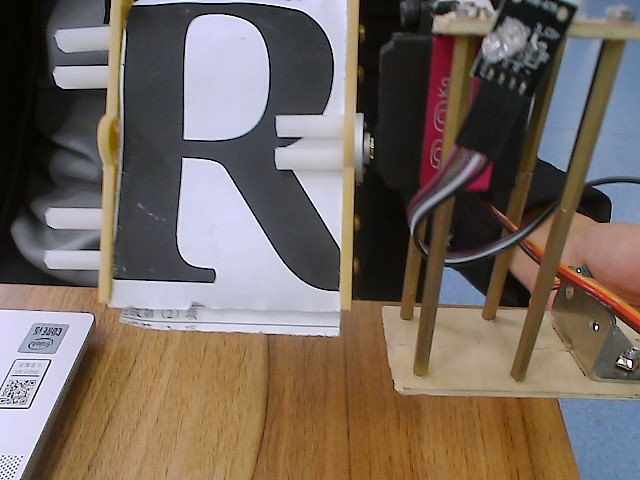R: (27, 1, 400, 428)
